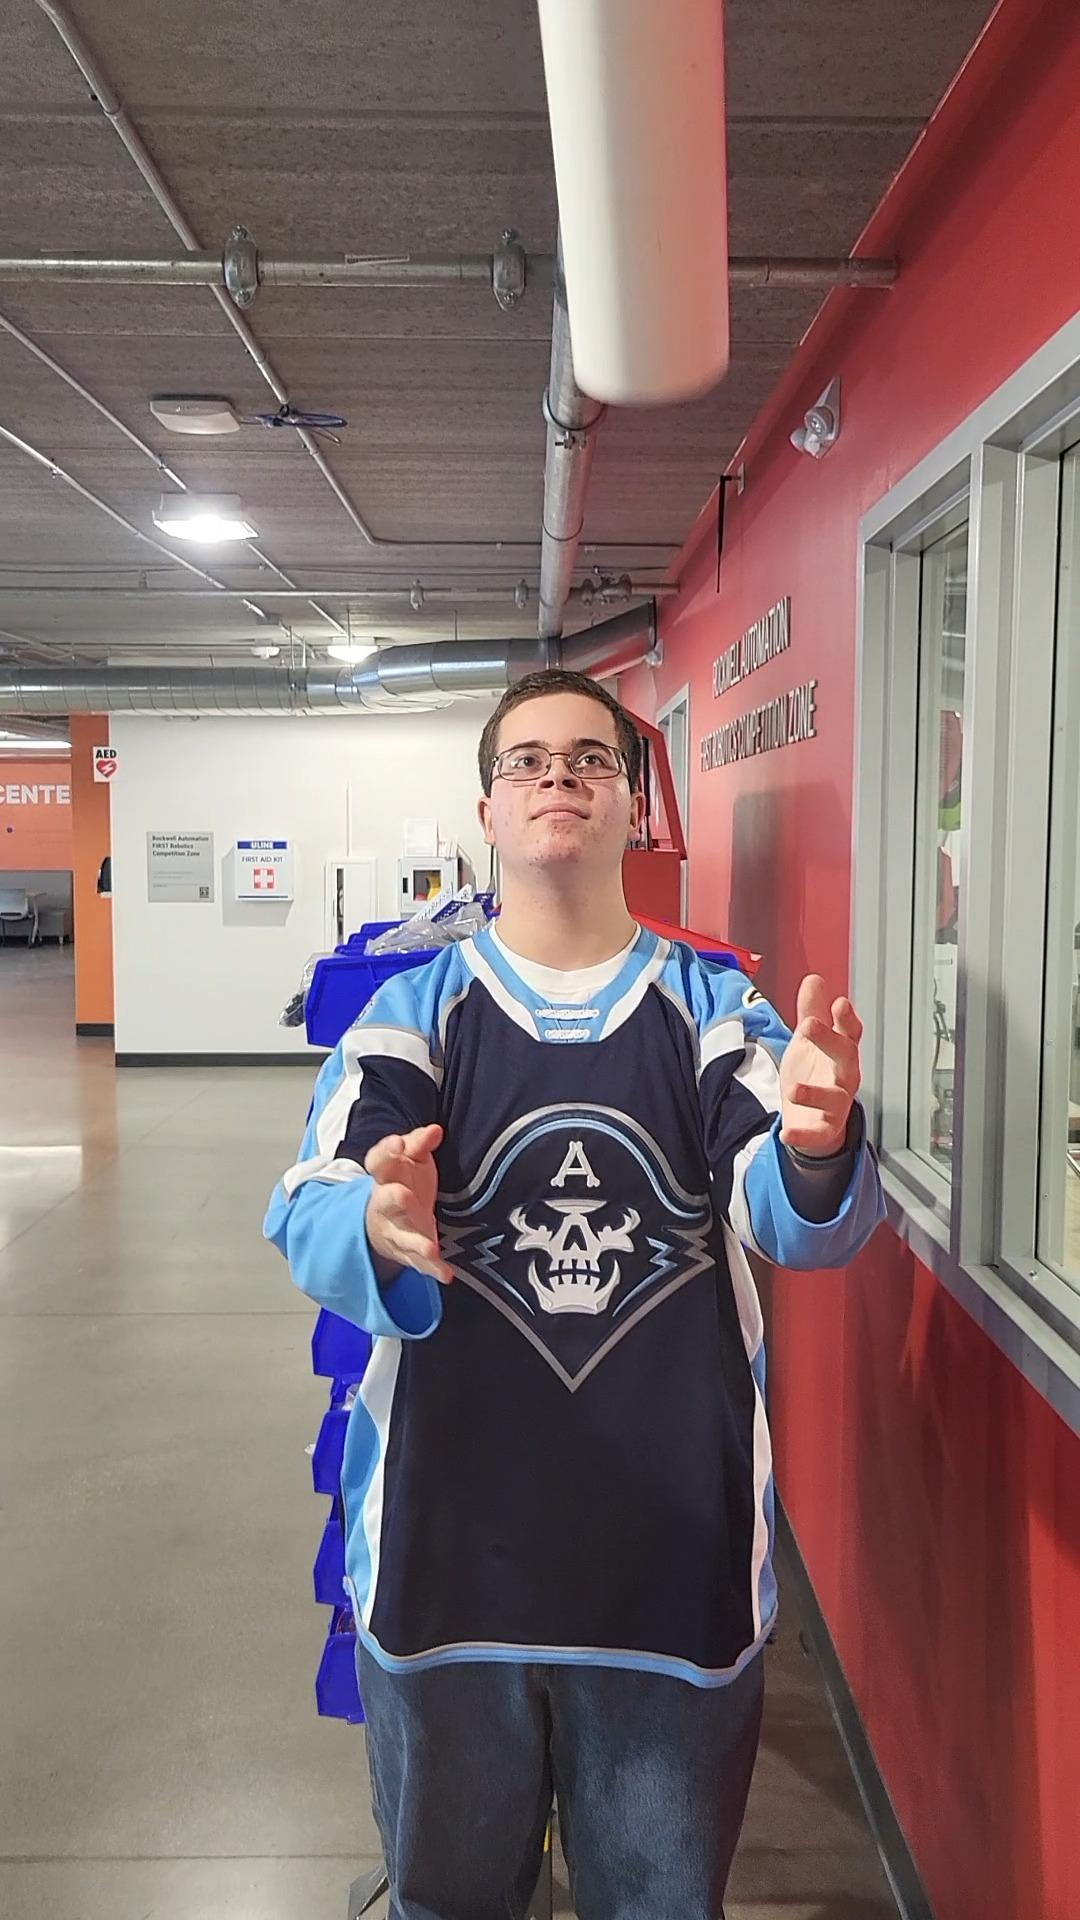coral: (537, 0, 746, 404)
